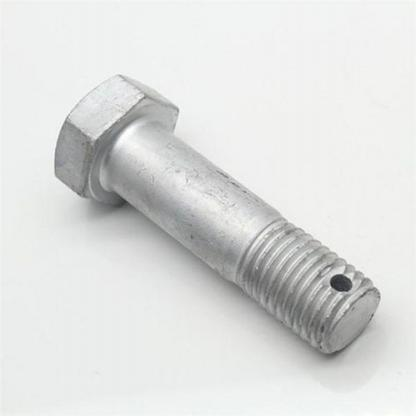FOD: (52, 70, 387, 357)
